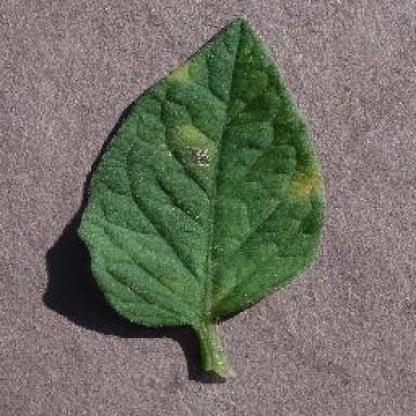Tomato_Leaf_Mold: (85, 18, 325, 312)
